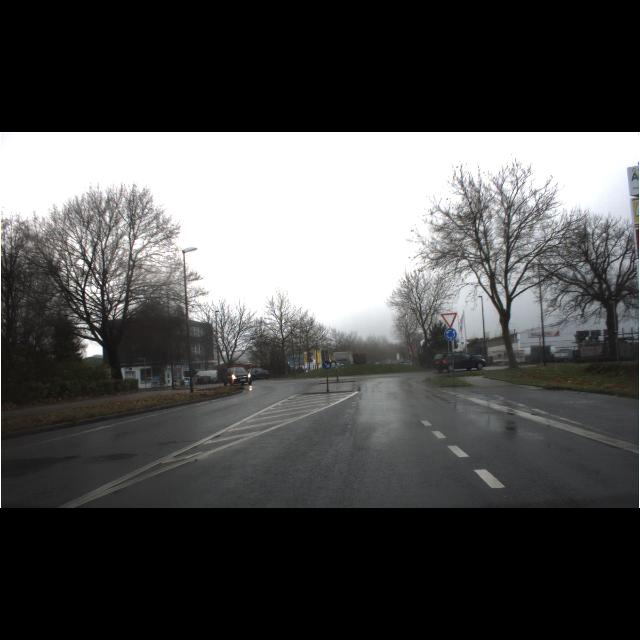mandatory: (444, 328, 456, 340), (322, 360, 332, 370)
other: (440, 312, 458, 328)
